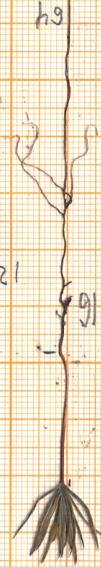flower: (11, 477, 101, 567)
root: (11, 0, 101, 349)
stem: (50, 349, 74, 483)
